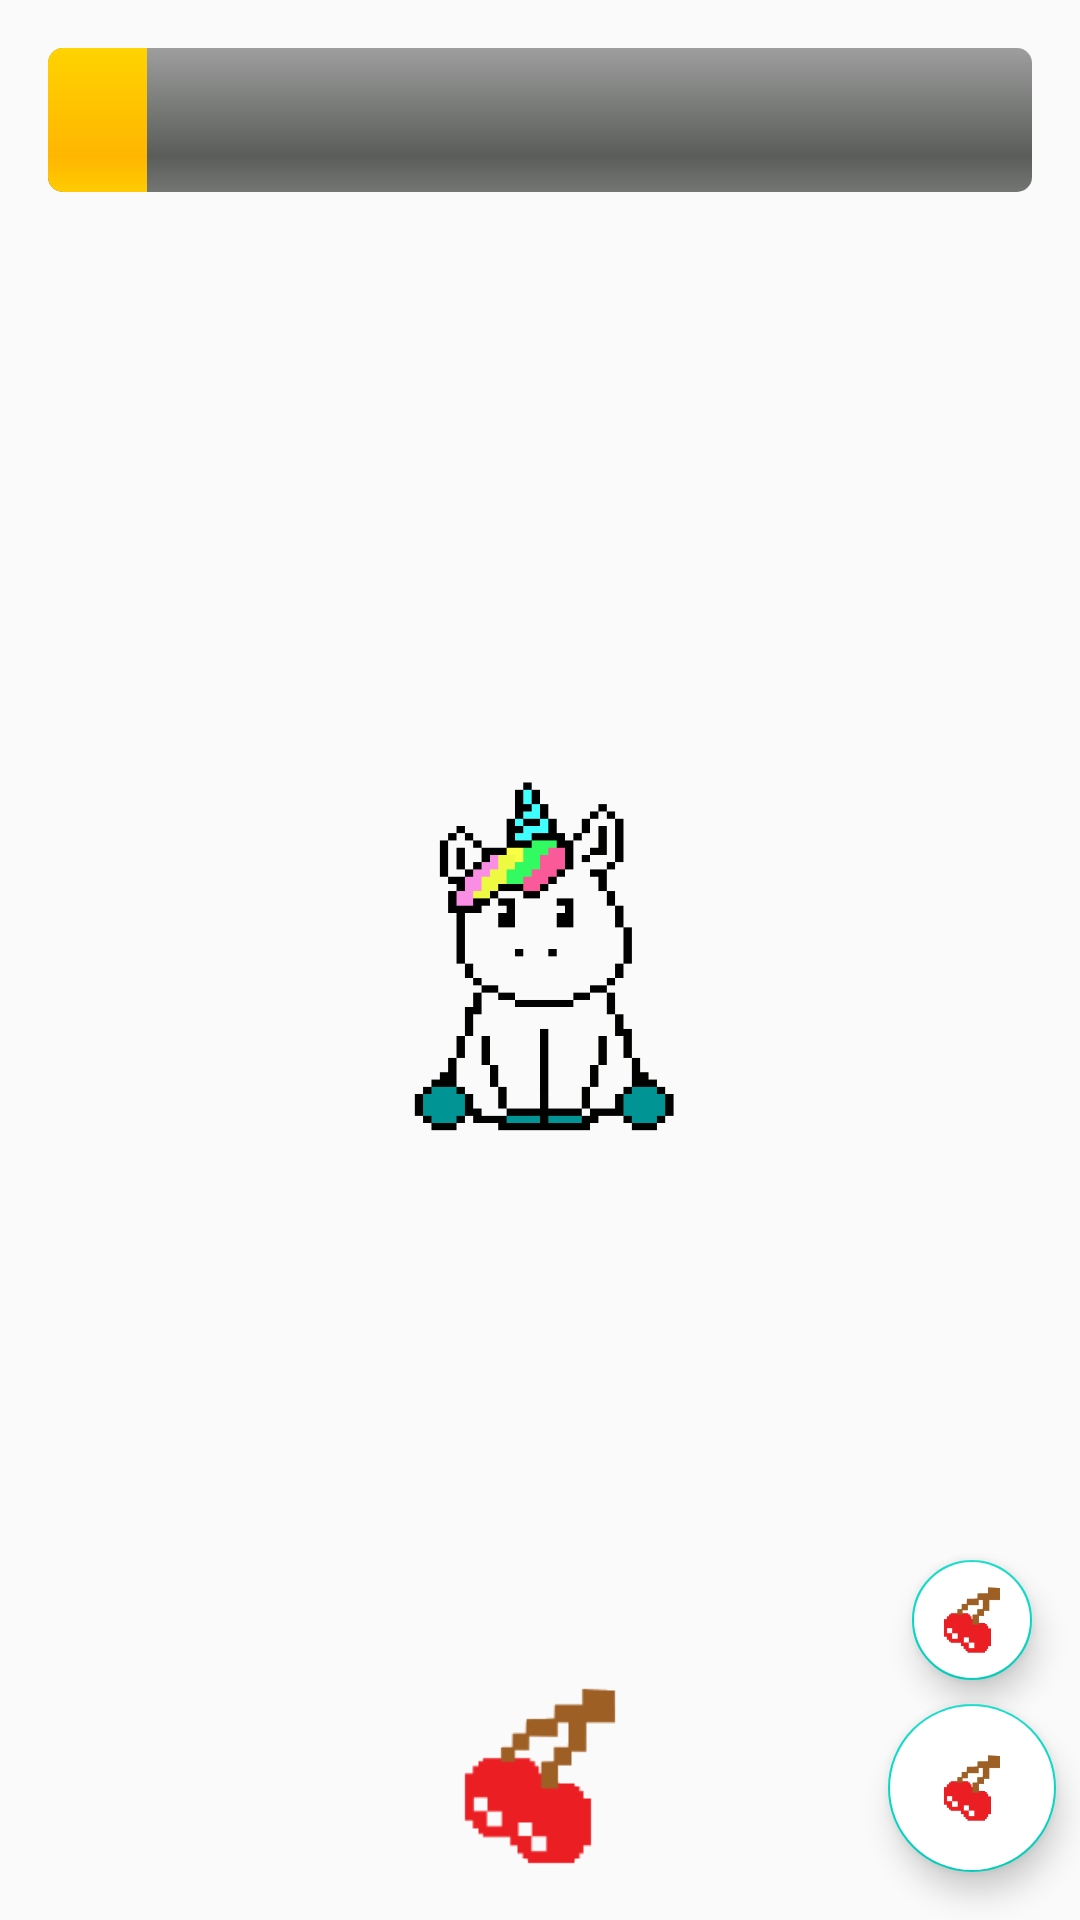

Where icons sit on this 1080×1920 app screen, as box(x1, y1, x2, y2):
cherry: box(944, 1587, 1000, 1653), box(464, 1688, 616, 1864), box(888, 1704, 1056, 1872)
unicorn: box(414, 782, 674, 1131)
